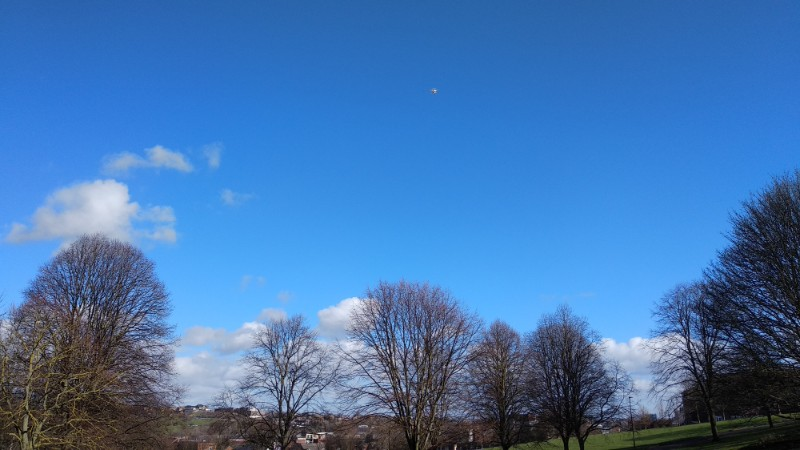drone: (428, 85, 441, 96)
